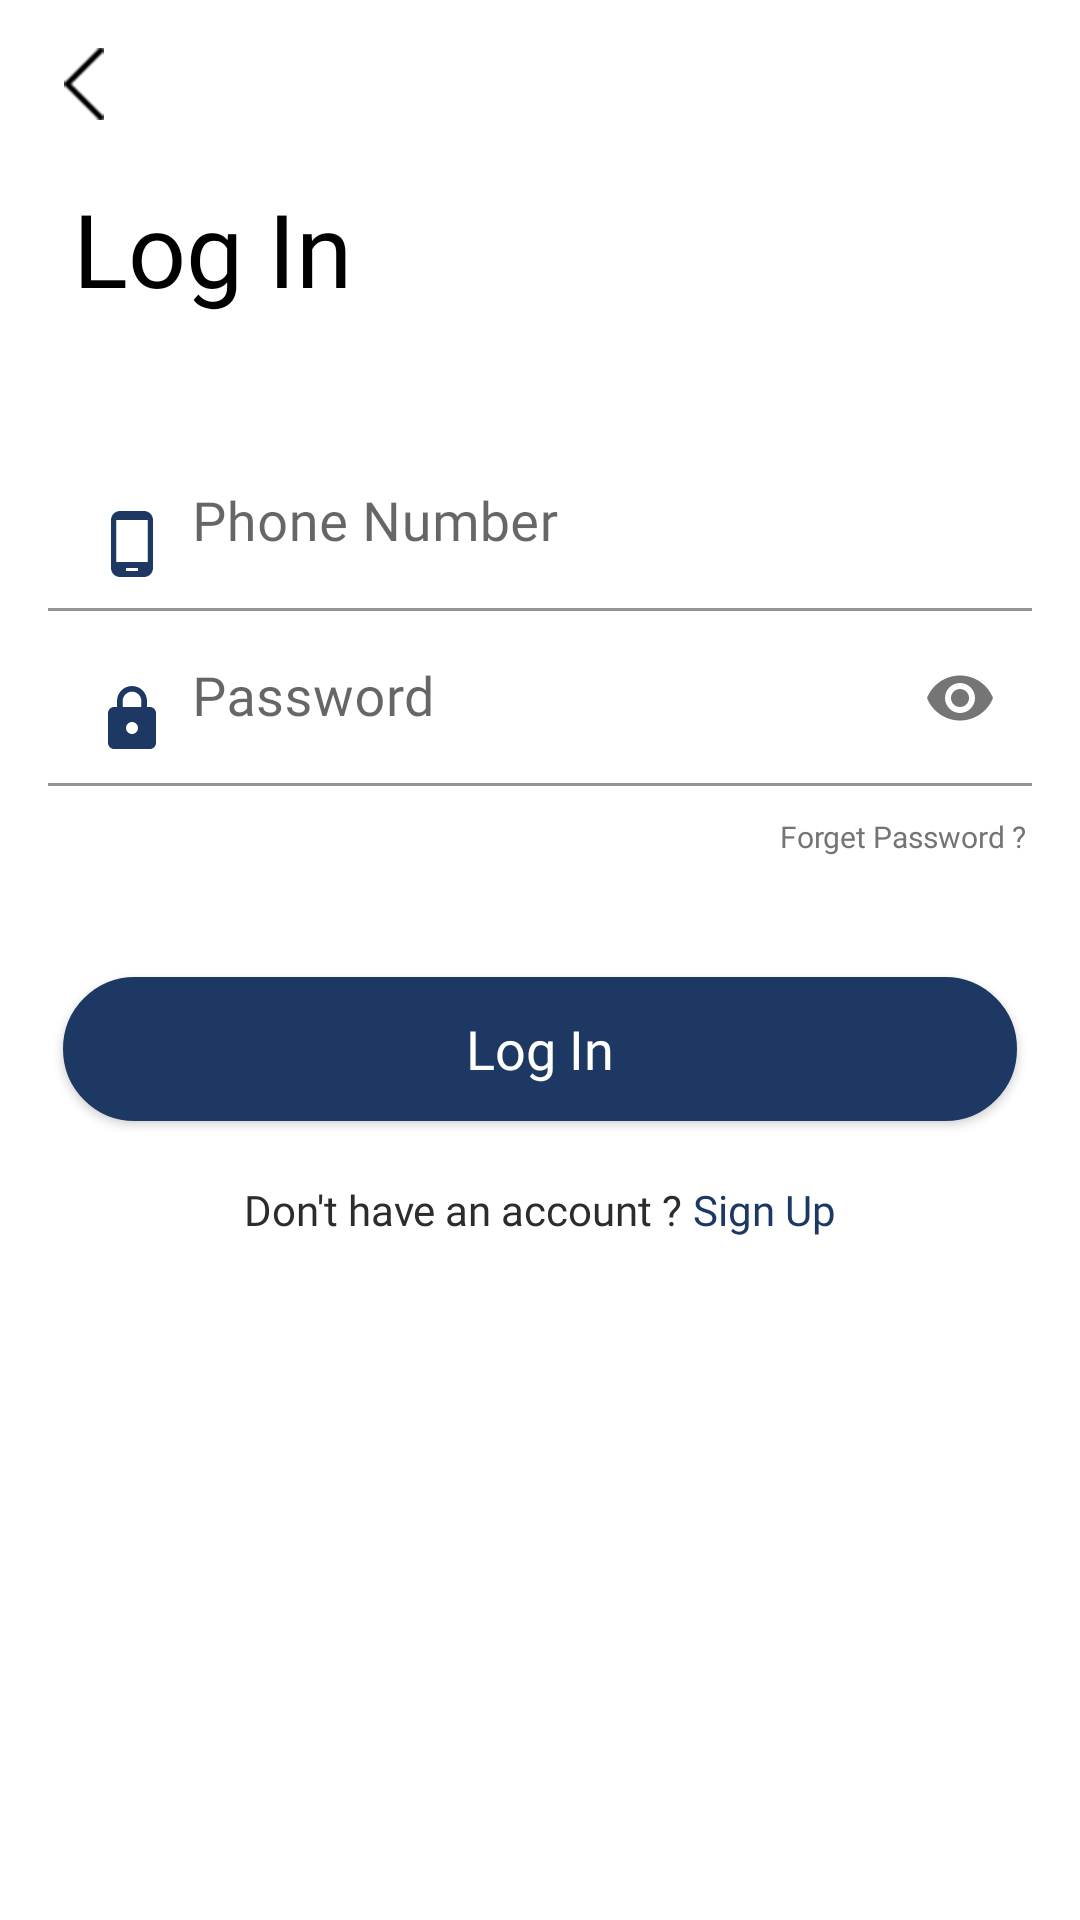

Named icons in this screenshot (1080 x 1920) and their centers, point (x, y):
back arrow: point (84, 84)
